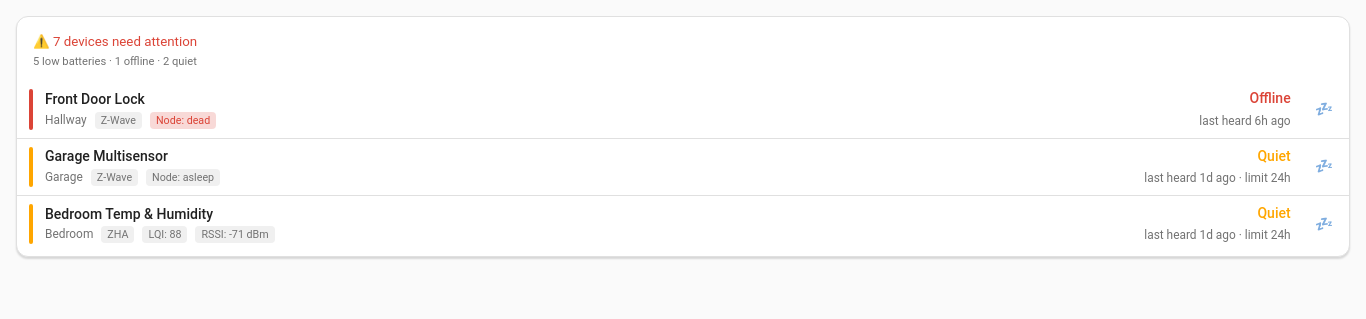
Test: App › offers the settings link to administrators only
Expected: the text "⚠️ 7 devices need attention" is shown, [33,33,197,52]
Click the button named "Snooze Front Door Lock" at (1324, 109), box [1307,94,1341,125]
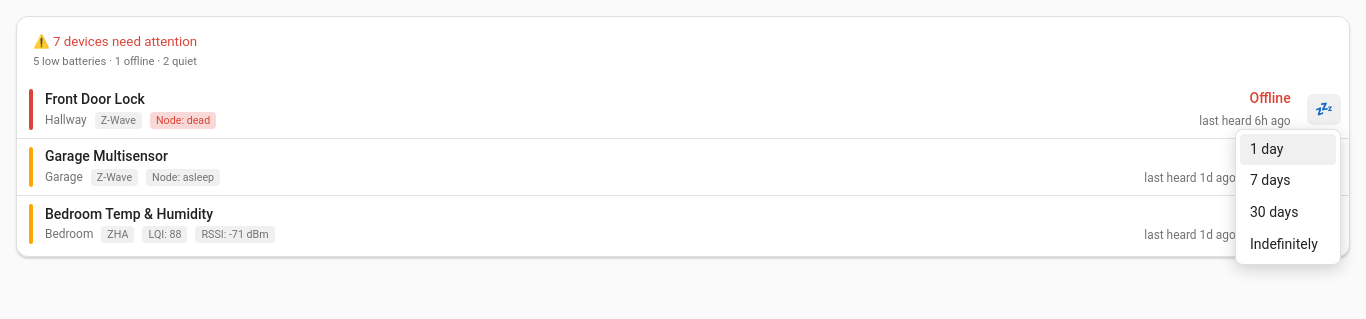
Click the menu item "Indefinitely" at (1288, 244), box [1240,228,1336,260]
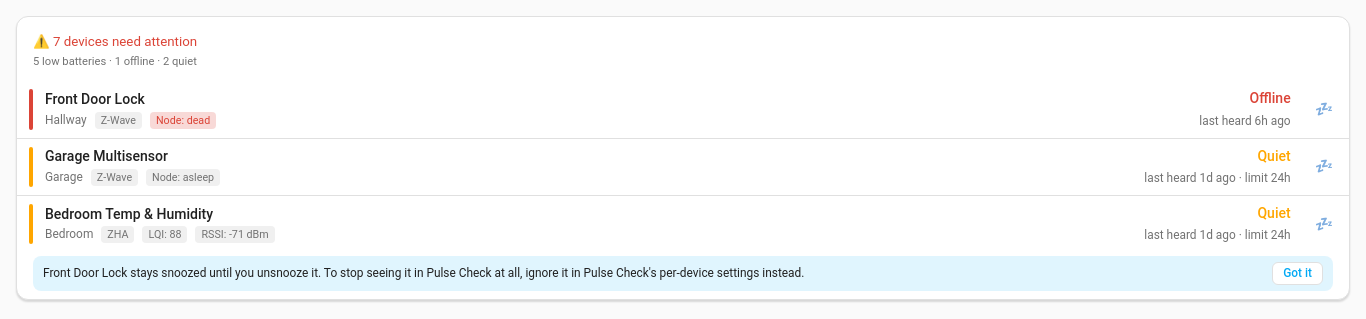
Result: the text "stays snoozed until you unsnooze it" is shown at [43,266,804,280]
